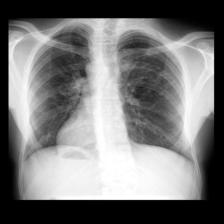tuberculosis: (21, 19, 196, 169)
